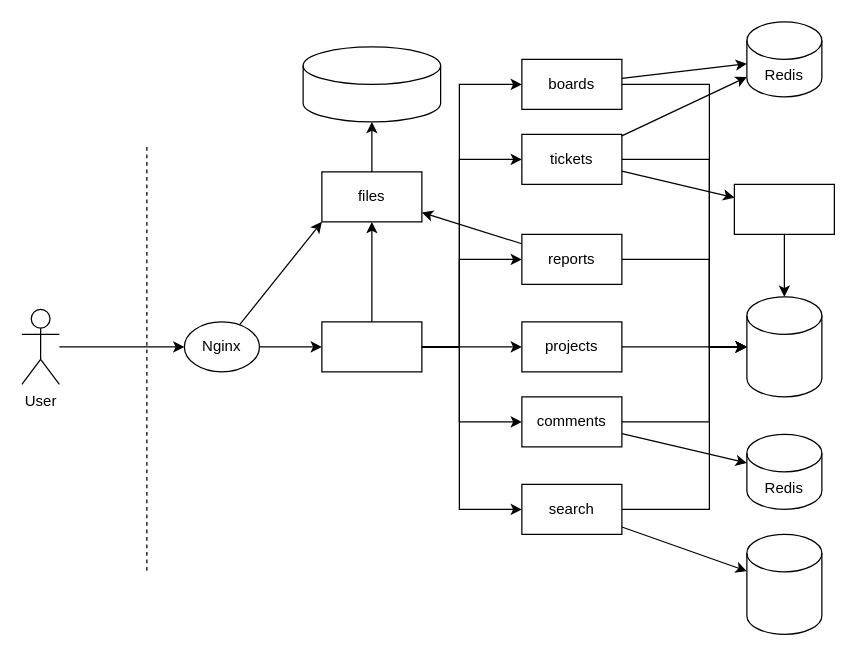
The diagram is 856 pixels wide and 656 high, and some of its shapes have lost their labels. The shapes that lost their labels are listed below. From the top down, each one's box as (x1, y1, x2, y2) in pixels, then its label:
(302, 46, 441, 122): S3
(733, 183, 834, 234): email
(321, 321, 422, 372): frontend
(746, 296, 822, 397): Postgres
(746, 533, 822, 634): Elastic
